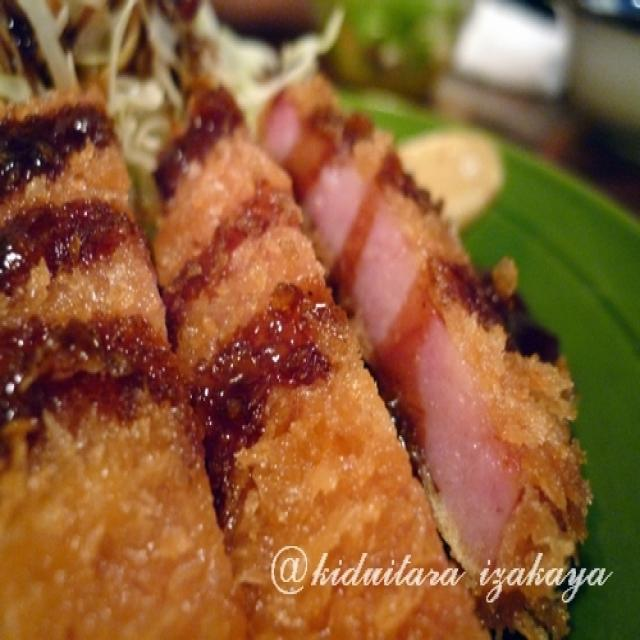炸货点心: (4, 36, 577, 633)
